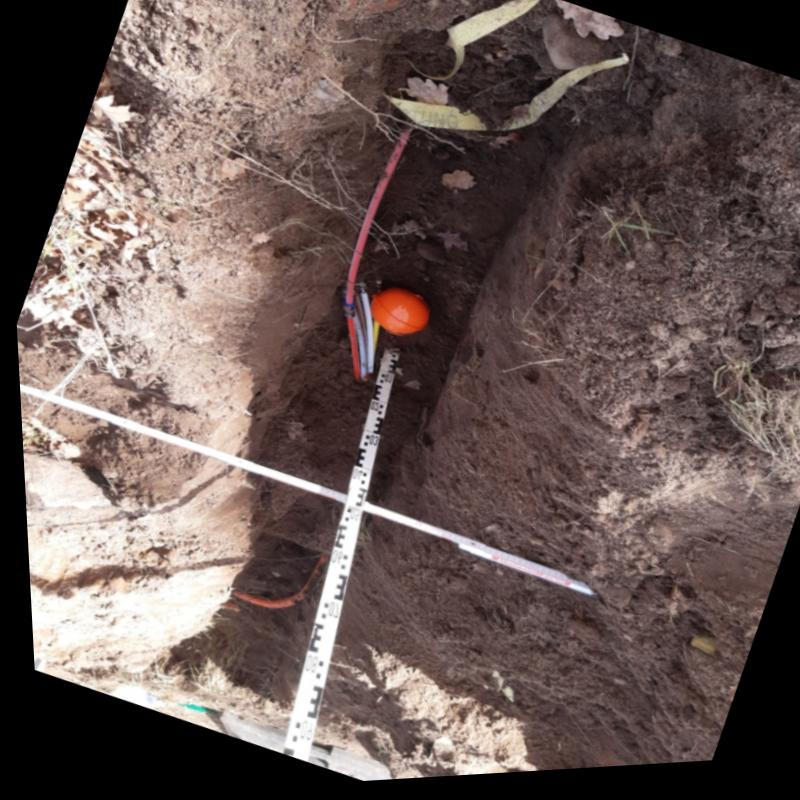Kugelmarker: (367, 292, 424, 338)
